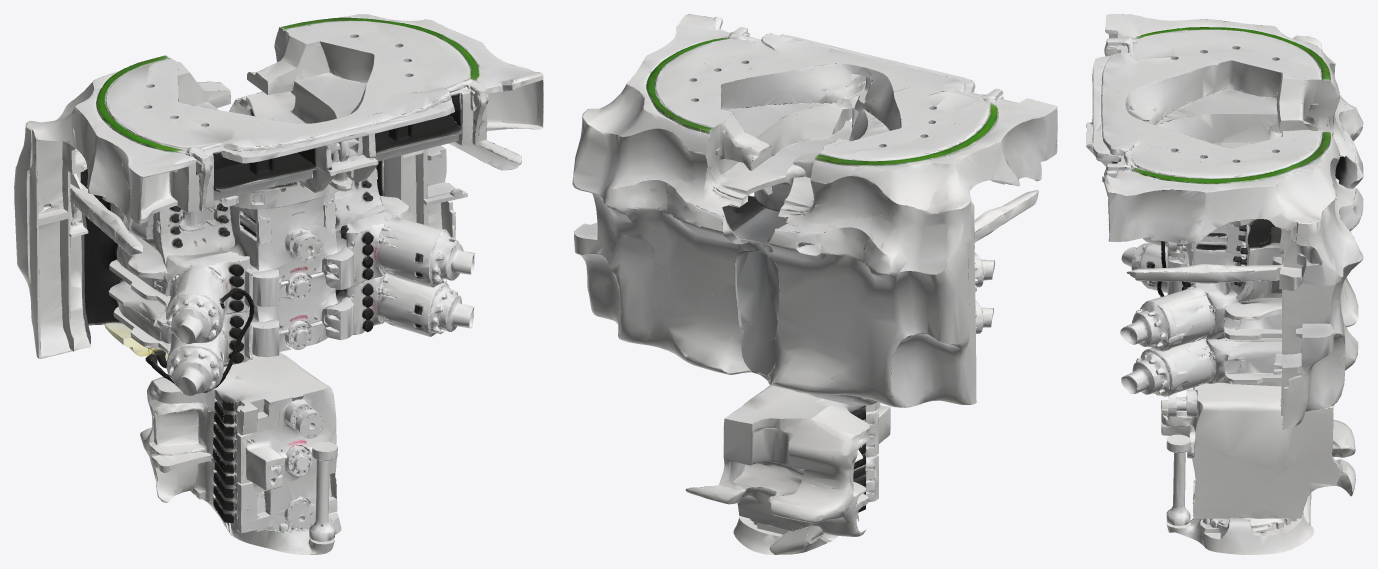
The model's file is wbsr.glb.
3 views of the same model, side by side, from view 1: azimuth 30°, elevation 25°; view 2: azimuth 150°, elevation 25°; view 3: azimuth 270°, elevation 25° (orthographic). The views are drawn at different scales.
Parts seen in each view (by area): view 1: model; view 2: model; view 3: model.
Part boxes in pixels (x1=…): model: x1=14, y1=14, x2=543, y2=554; model: x1=572, y1=14, x2=1057, y2=554; model: x1=1086, y1=14, x2=1363, y2=554.
Bounding box in the file's own units: 1.83 × 1.9 × 1.12.
1 material, 1 textured.
